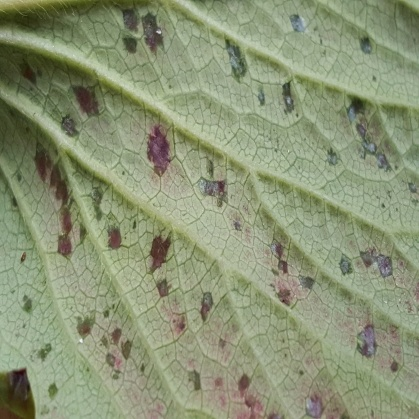Angular_LS: (0, 6, 418, 418)
